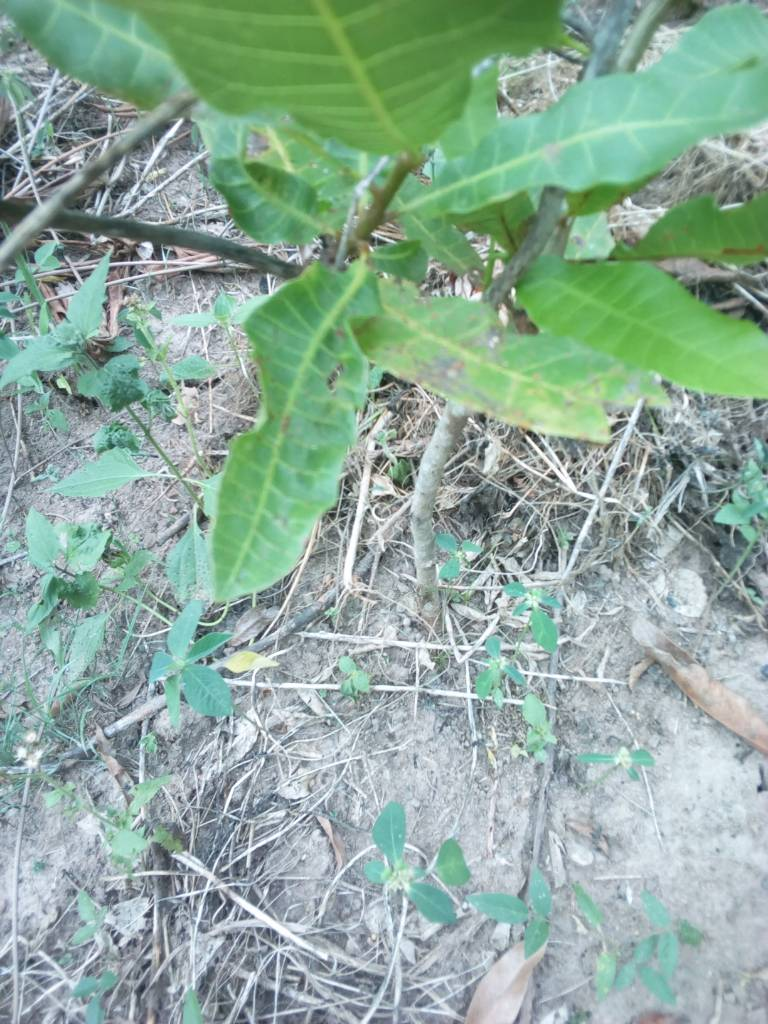Bactériose: (207, 264, 375, 613), (371, 283, 641, 439), (236, 117, 352, 216)
